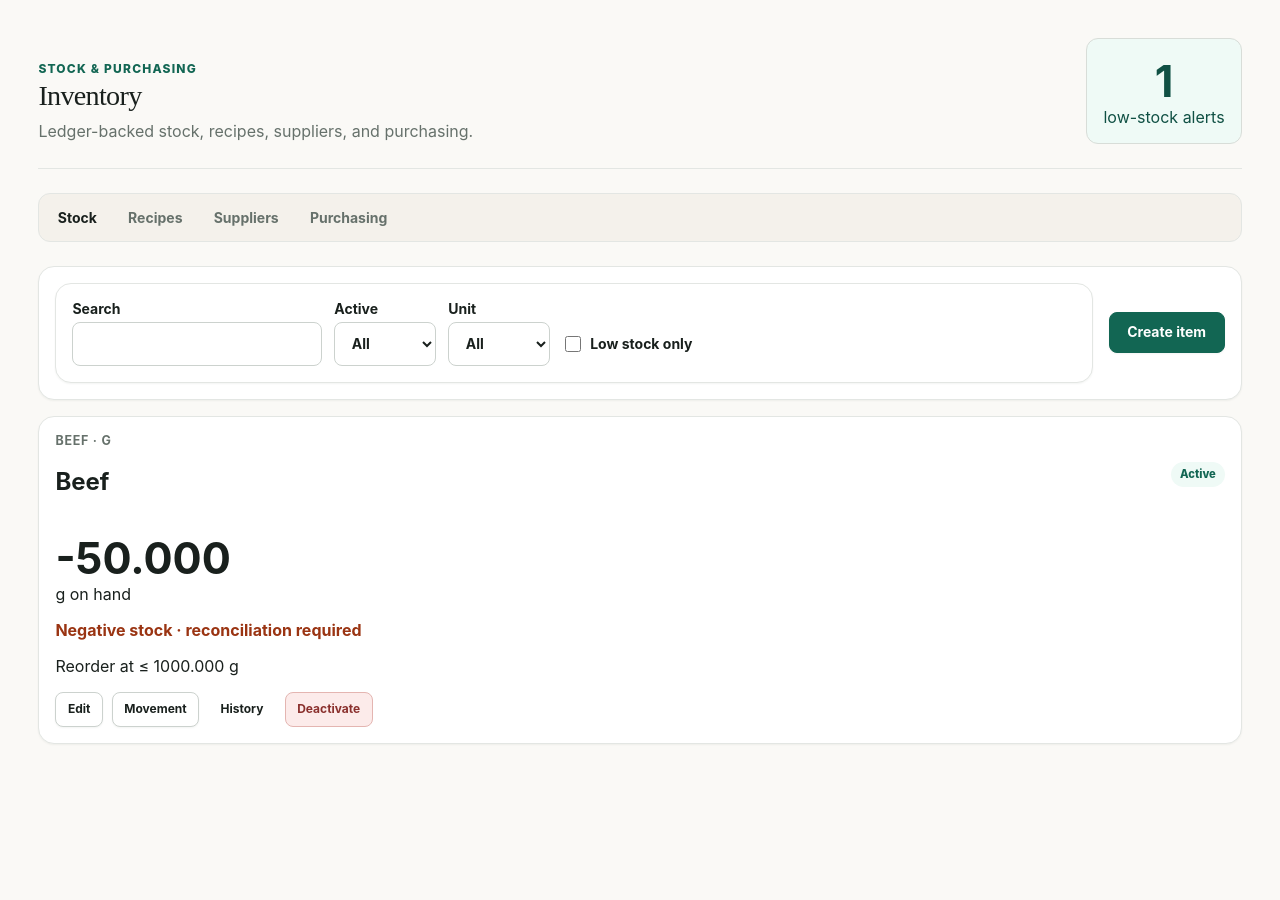
Test: inventory page › handles a rejected dialog mutation without an unhandled promise rejection
Expected: the heading "Beef" is shown, [55,468,112,496]
Click the button "Edit": (79,710) [55,692,103,727]
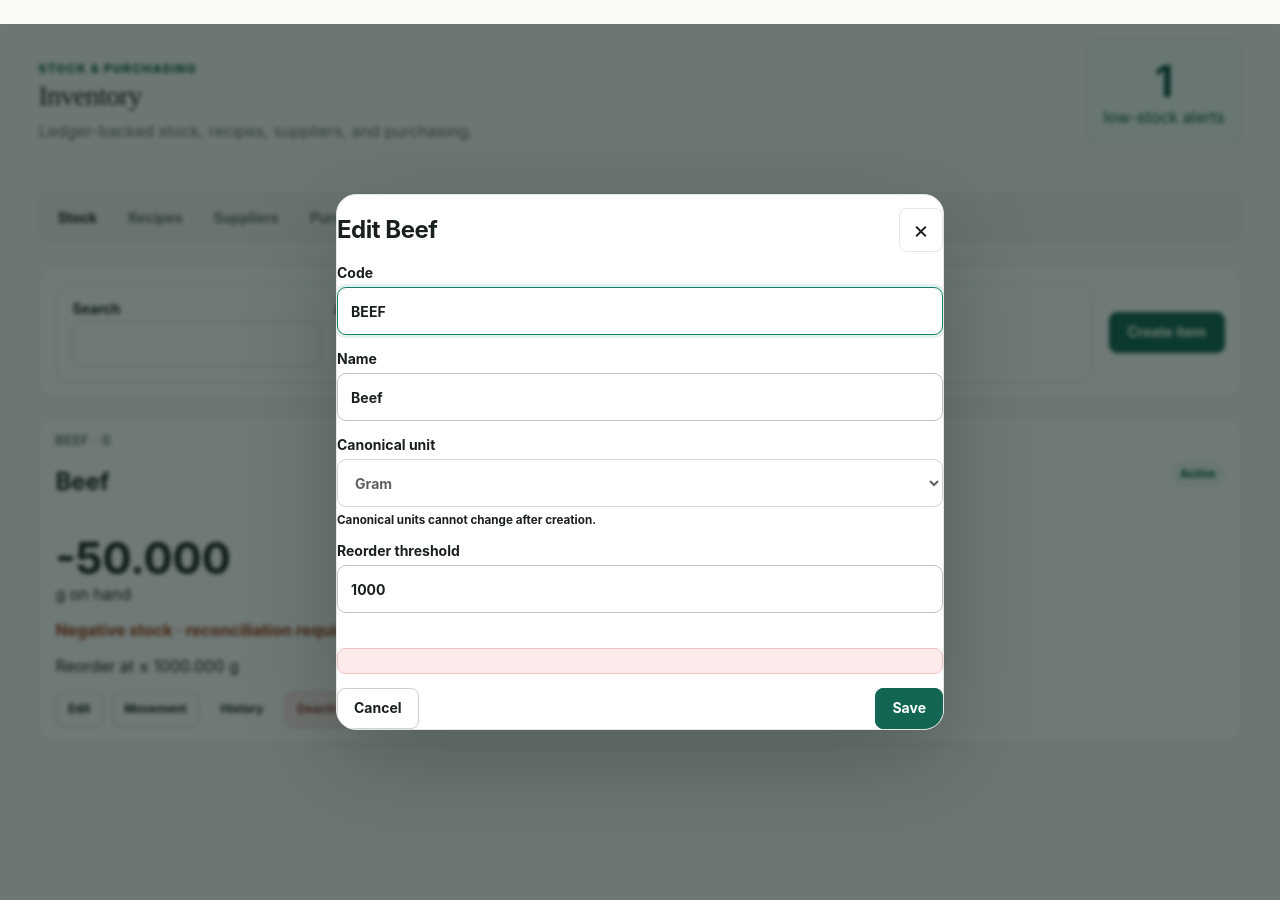
Click the button "Save": (909,708) [876,688,943,729]
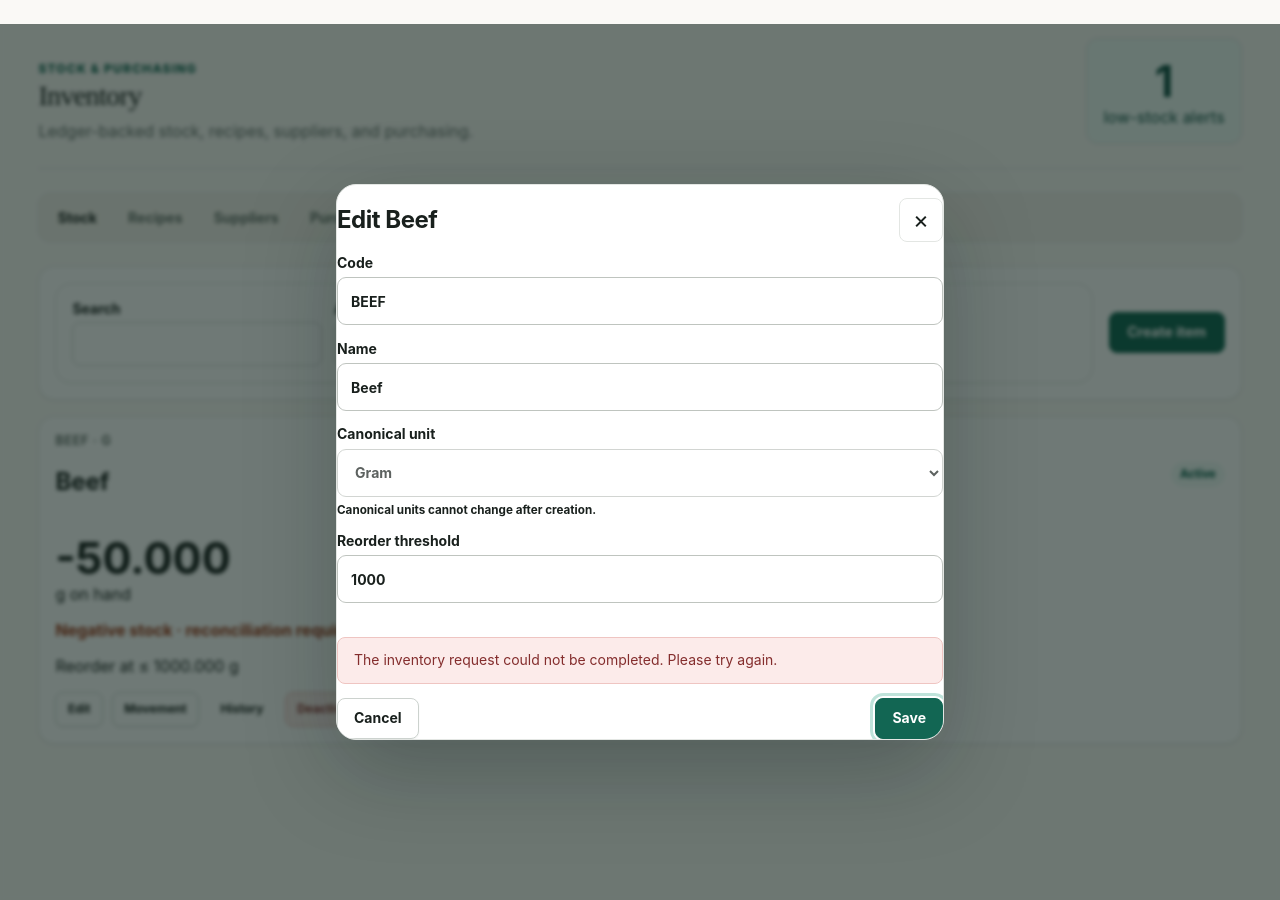
Expected: the message reads "The inventory request could not be completed. Please try again.", [354,651,777,668]
